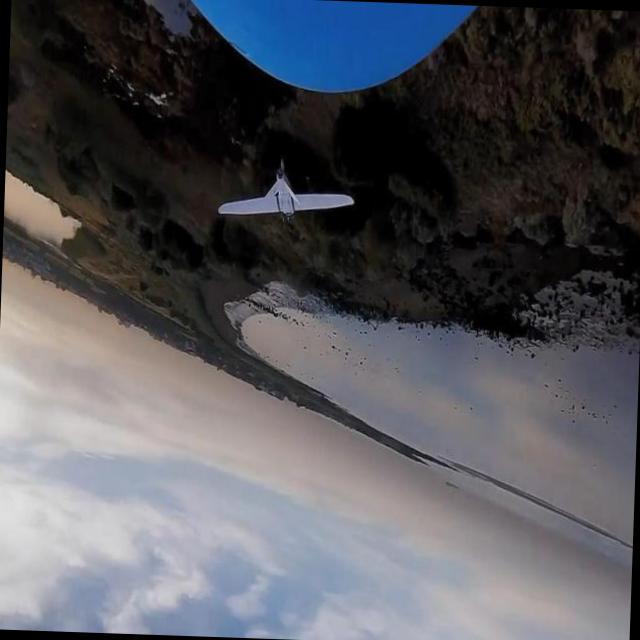UAV: (165, 133, 368, 258)
